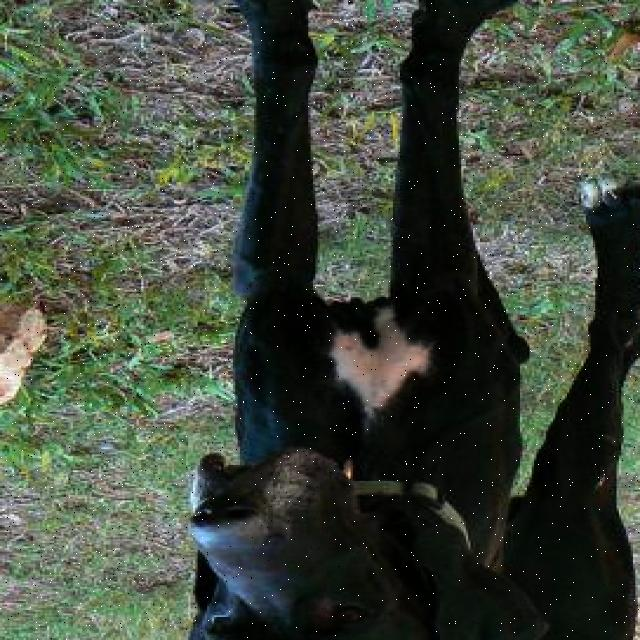Dog: (155, 447, 546, 640)
